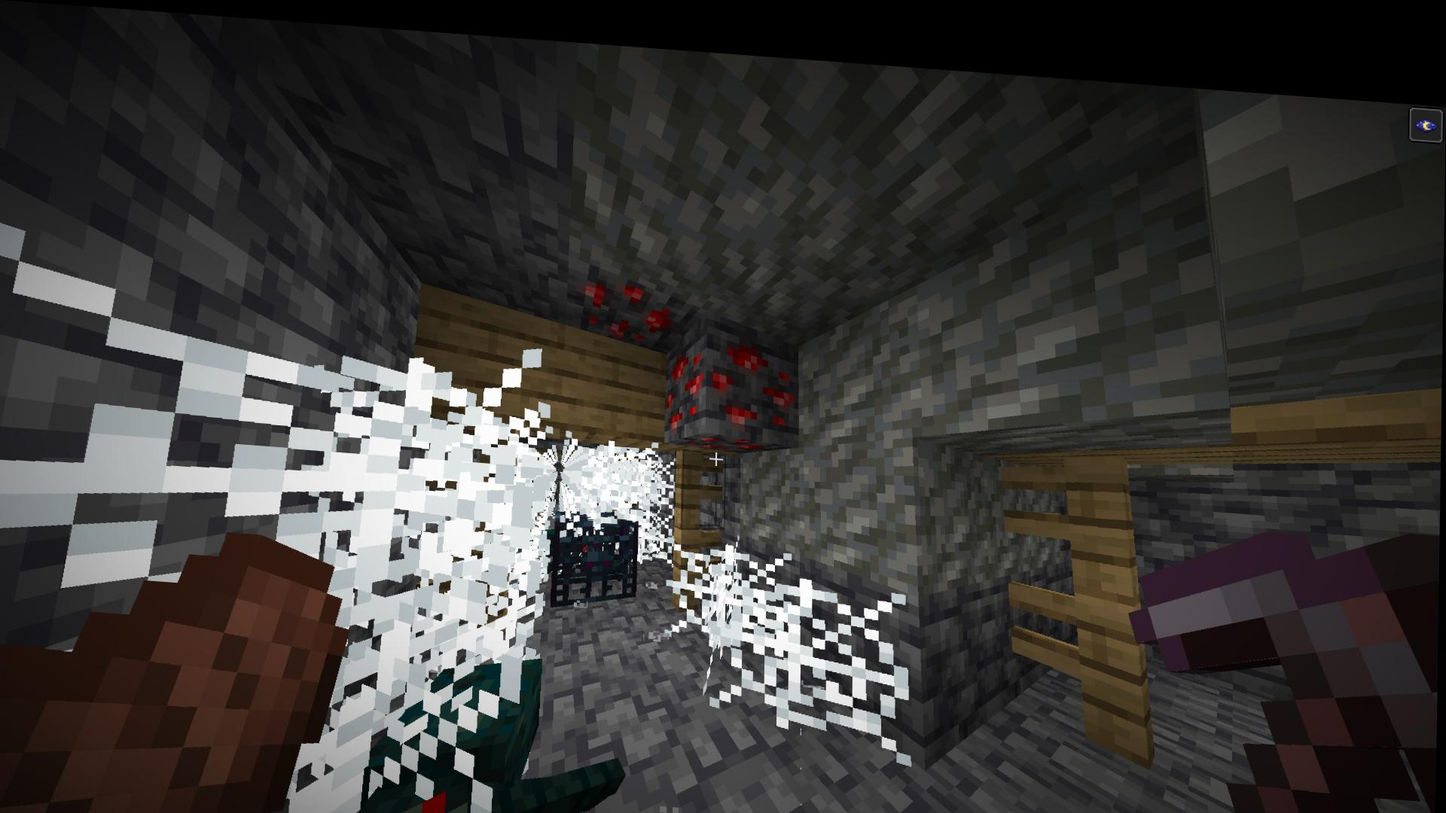redstone ore: (707, 324, 804, 431), (572, 258, 688, 342), (671, 331, 711, 429)
